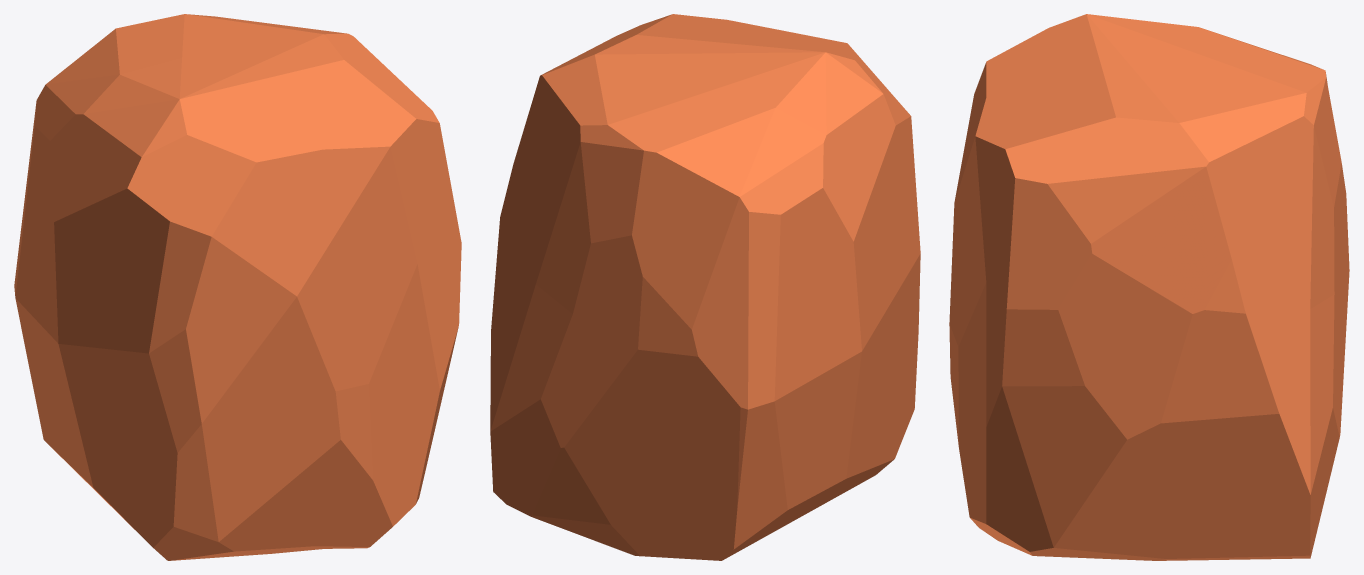
The model's file is JumpRock_2.fbx.
3 views of the same model, side by side, from view 1: azimuth 30°, elevation 25°; view 2: azimuth 150°, elevation 25°; view 3: azimuth 270°, elevation 25° (orthographic). The views are drawn at different scales.
Parts seen in each view (by area): view 1: Rock_8; view 2: Rock_8; view 3: Rock_8.
Part boxes in pixels (box(x1,y1,x2,y2)): Rock_8: box(14, 14, 461, 560); Rock_8: box(490, 14, 920, 560); Rock_8: box(949, 14, 1349, 560).
Size of the model in its own units: 955 by 1215 by 957.
